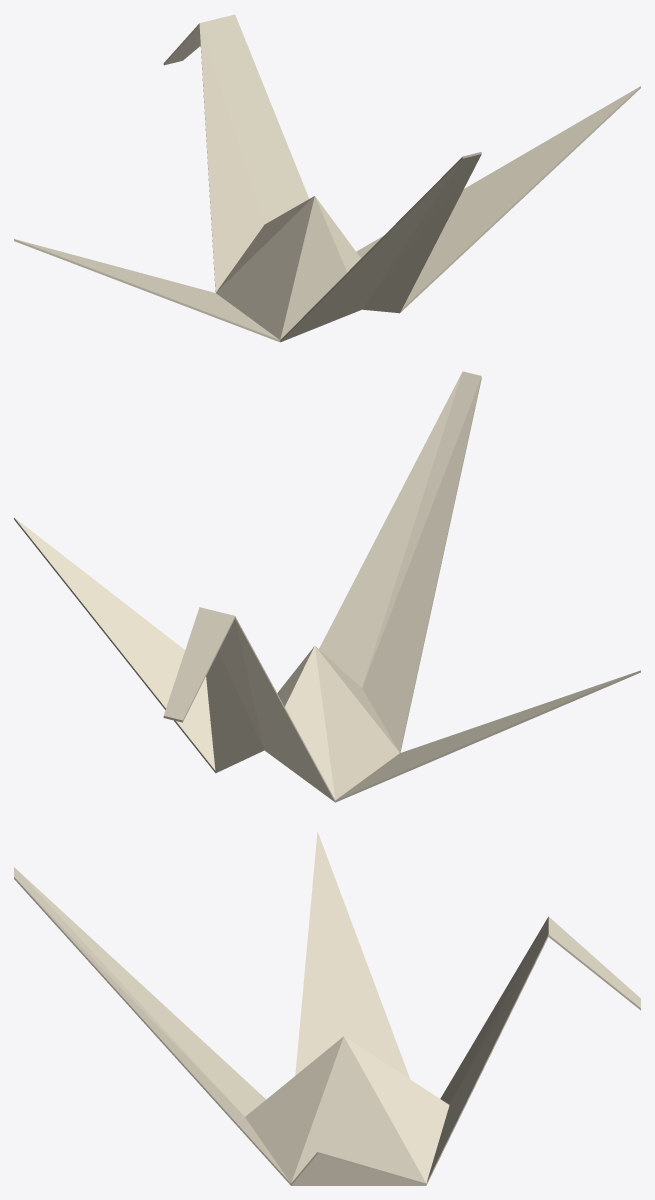
The model's file is NEW_RECOVERY_048_LOD2.fbx.
3 renders of one model, top to bottom at view 1: azimuth 30°, elevation 25°; view 2: azimuth 150°, elevation 25°; view 3: azimuth 270°, elevation 25°, orthographic. The views are drawn at different scales.
Visible parts, largest first — view 1: Origami_crane; view 2: Origami_crane; view 3: Origami_crane.
Boxes of the visible parts, x1,y1,x2,y2 form: Origami_crane: (14,14,640,342); Origami_crane: (14,371,640,802); Origami_crane: (14,831,640,1185).
Bounding box in the file's own units: 230 × 190 × 94.82.
